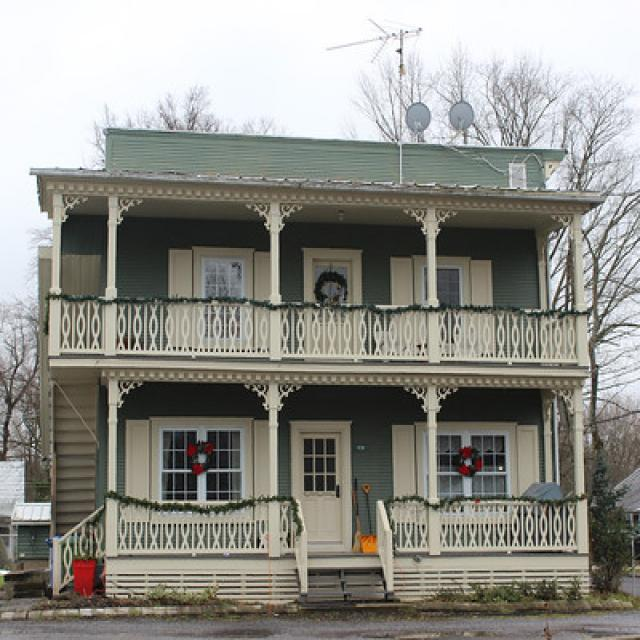Normal_building: (25, 119, 598, 620)
